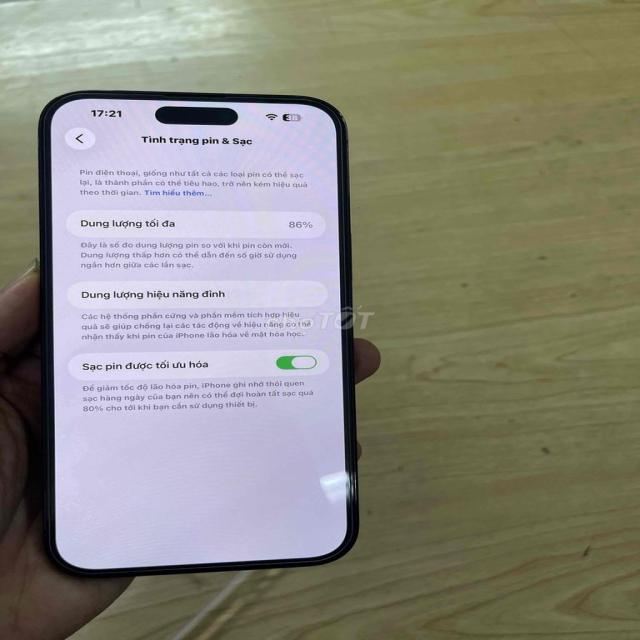gen_14: (27, 84, 364, 577)
